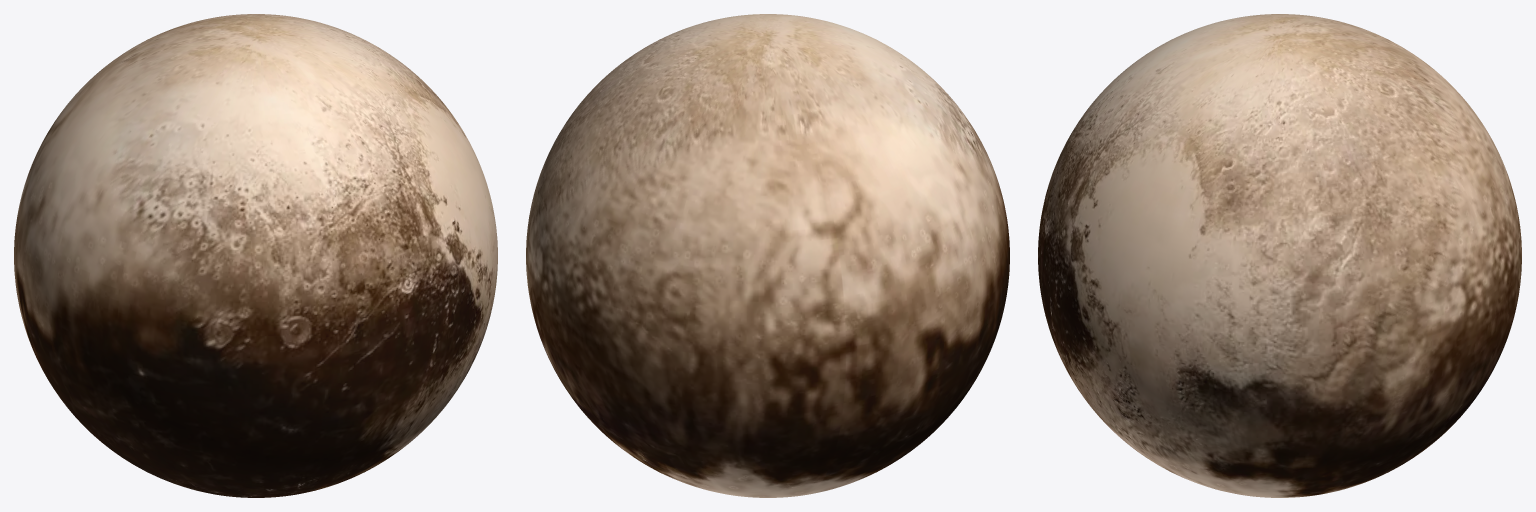
The model's file is pluto-transformed.glb.
3 renders of one model, left to right at view 1: azimuth 30°, elevation 25°; view 2: azimuth 150°, elevation 25°; view 3: azimuth 270°, elevation 25°, orthographic.
Visible parts, largest first — view 1: Geode; view 2: Geode; view 3: Geode.
Part boxes in pixels (x1,y1,x2,y2): Geode: (14, 14, 497, 497); Geode: (526, 14, 1009, 497); Geode: (1038, 14, 1521, 497).
Bounding box in the file's own units: 200 × 200 × 200.
Materials: 1 (1 with a texture image).
